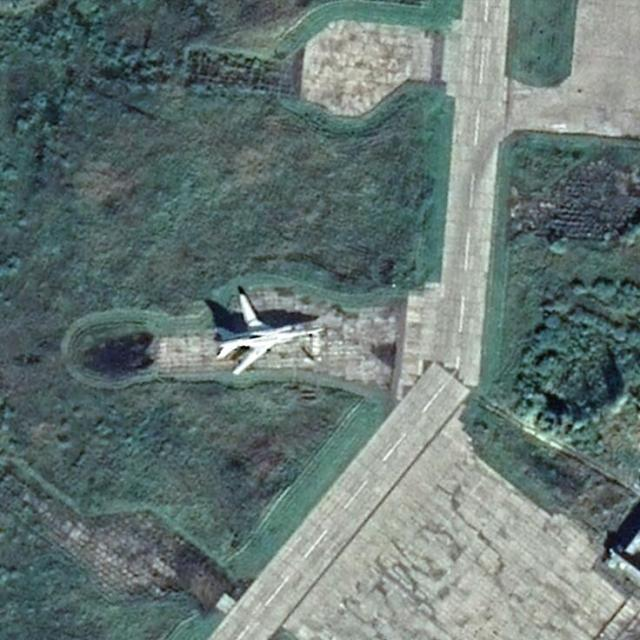fighter jet: (205, 292, 302, 364)
